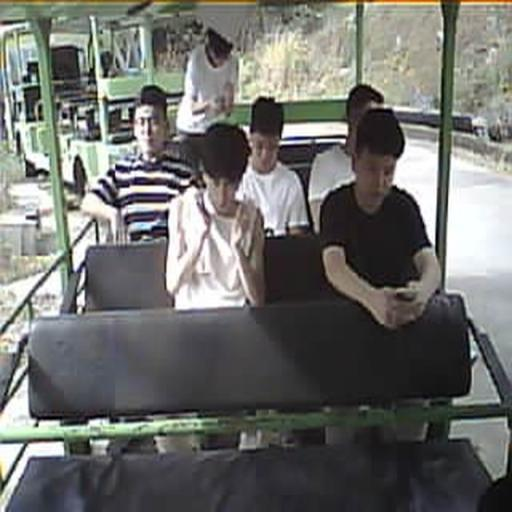persona: (318, 106, 443, 330), (80, 84, 201, 244), (165, 121, 267, 310), (308, 83, 385, 233), (234, 96, 312, 238)
